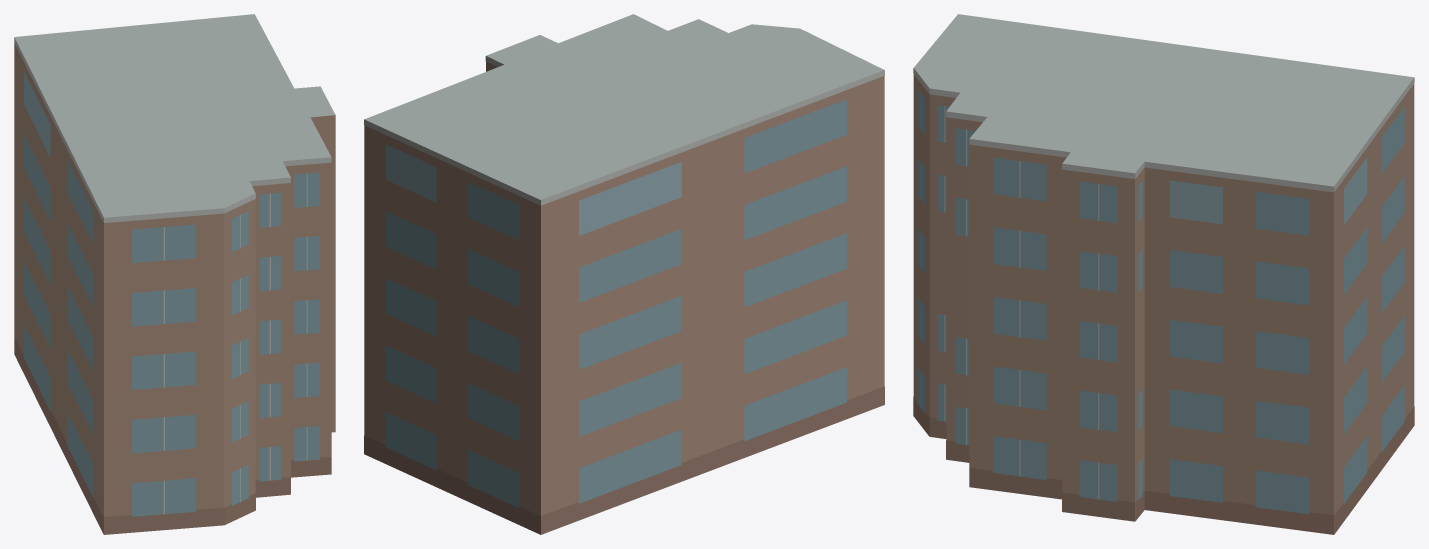
The model's file is survey-upis-32536118.glb.
3 renders of one model, left to right at view 1: azimuth 30°, elevation 25°; view 2: azimuth 150°, elevation 25°; view 3: azimuth 270°, elevation 25°, orthographic. The views are drawn at different scales.
Visible parts, largest first — view 1: survey-upis-32536118.tmp; view 2: survey-upis-32536118.tmp; view 3: survey-upis-32536118.tmp.
Part boxes in pixels (bbox=[...]): survey-upis-32536118.tmp: bbox=[14, 14, 335, 534]; survey-upis-32536118.tmp: bbox=[364, 14, 884, 534]; survey-upis-32536118.tmp: bbox=[913, 14, 1414, 534].
Bounding box in the file's own units: 15.42 × 14.5 × 18.9.
